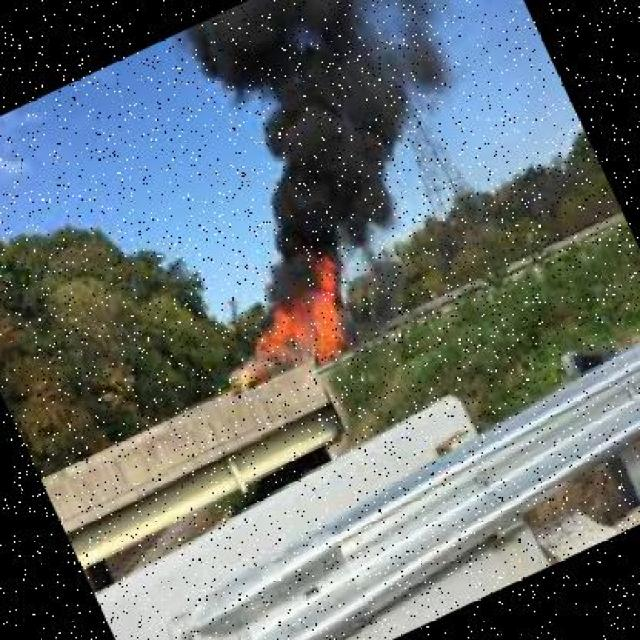fire: (209, 243, 382, 399)
